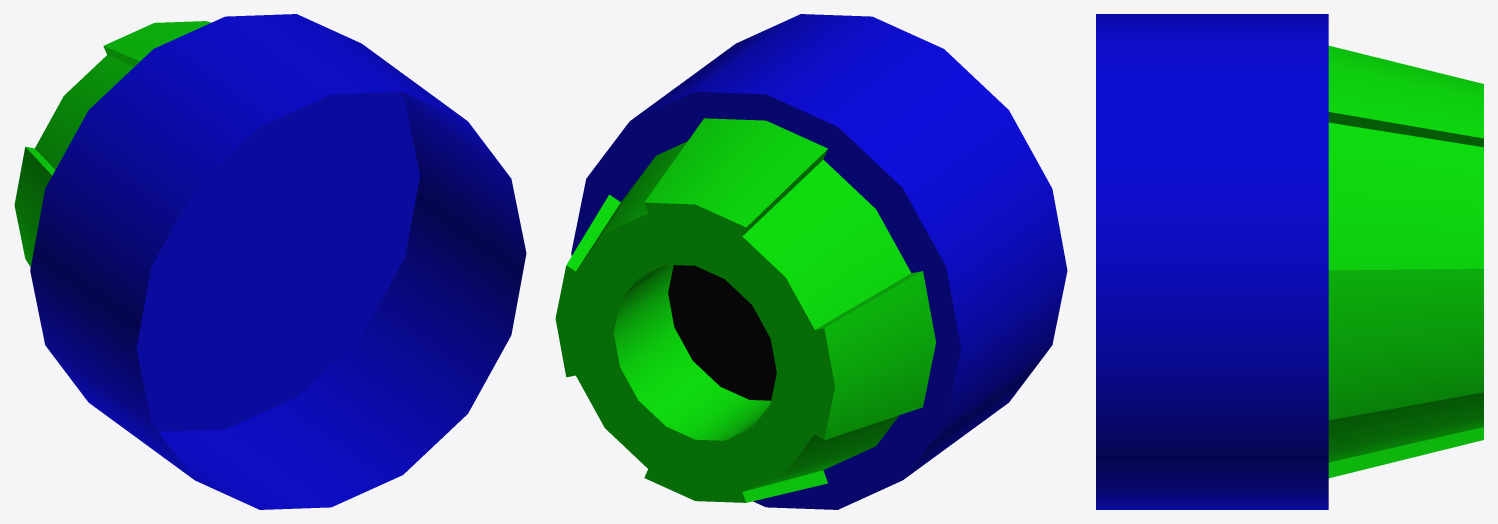
Rendered from ReactorBot_LVL1.FBX.
3 views of the same model, side by side, from view 1: azimuth 30°, elevation 25°; view 2: azimuth 150°, elevation 25°; view 3: azimuth 270°, elevation 25° (orthographic). The views are drawn at different scales.
Parts seen in each view (by area): view 1: ReactorBot_LVL1; view 2: ReactorBot_LVL1; view 3: ReactorBot_LVL1.
Boxes of the visible parts, x1,y1,x2,y2 form: ReactorBot_LVL1: [14, 14, 526, 509]; ReactorBot_LVL1: [555, 14, 1067, 509]; ReactorBot_LVL1: [1096, 14, 1483, 509].
Size of the model in its own units: 31.78 by 32.15 by 25.
